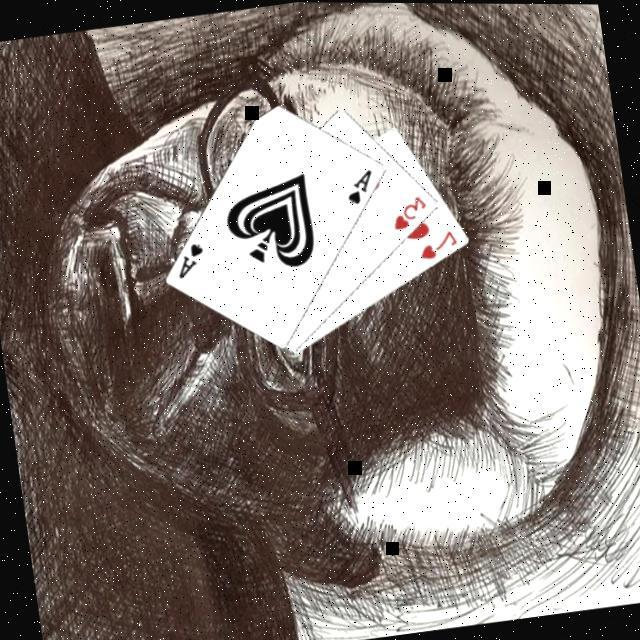3H: (388, 192, 434, 235)
7H: (416, 227, 464, 265)
AS: (172, 240, 211, 284), (342, 167, 381, 210)
